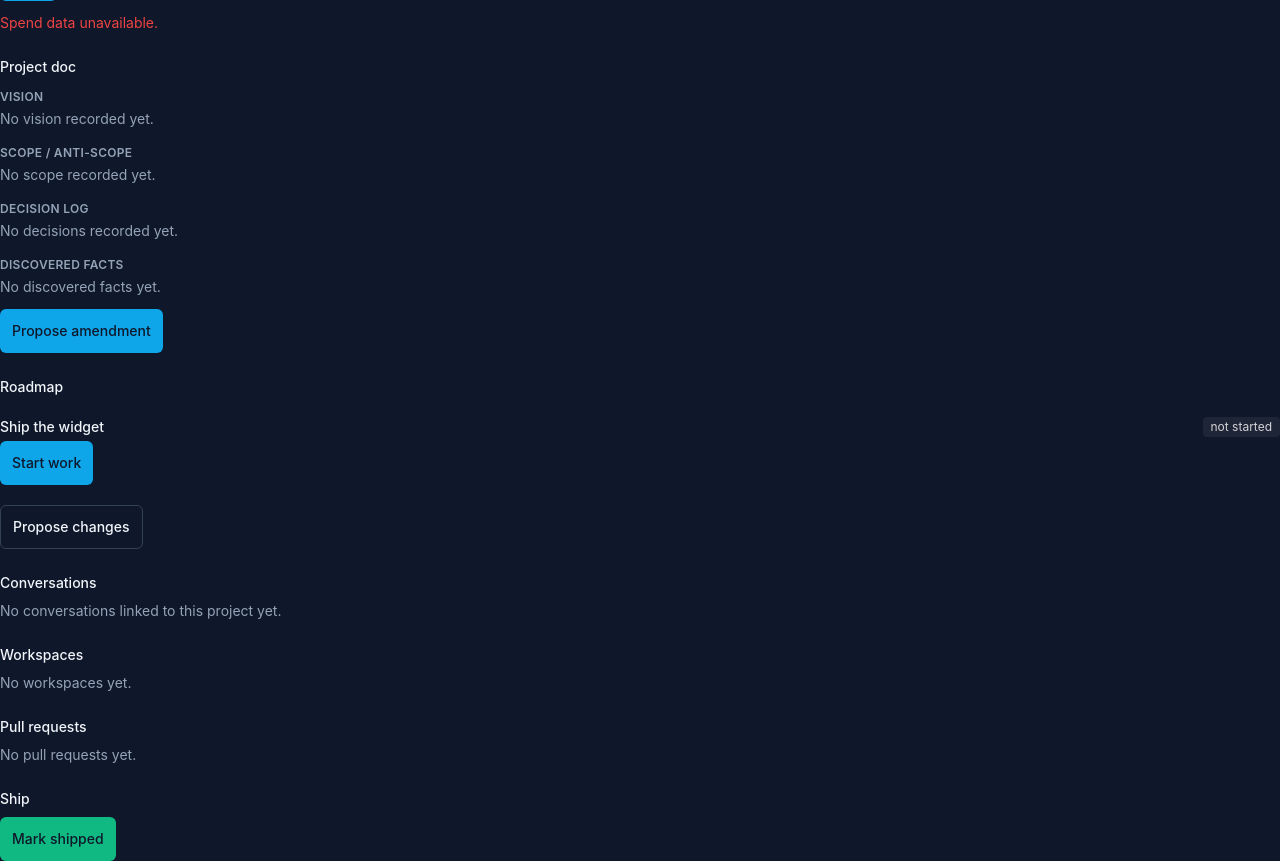
Test: Project › propose roadmap changes action › Cancel button closes the propose-changes modal without proposing
(page scrolled)
What coordinates should you click on to do the following:
click the button with test id "propose-roadmap-changes-open"
I would click on:
 (71, 527)
Its box is [0,505,142,549].
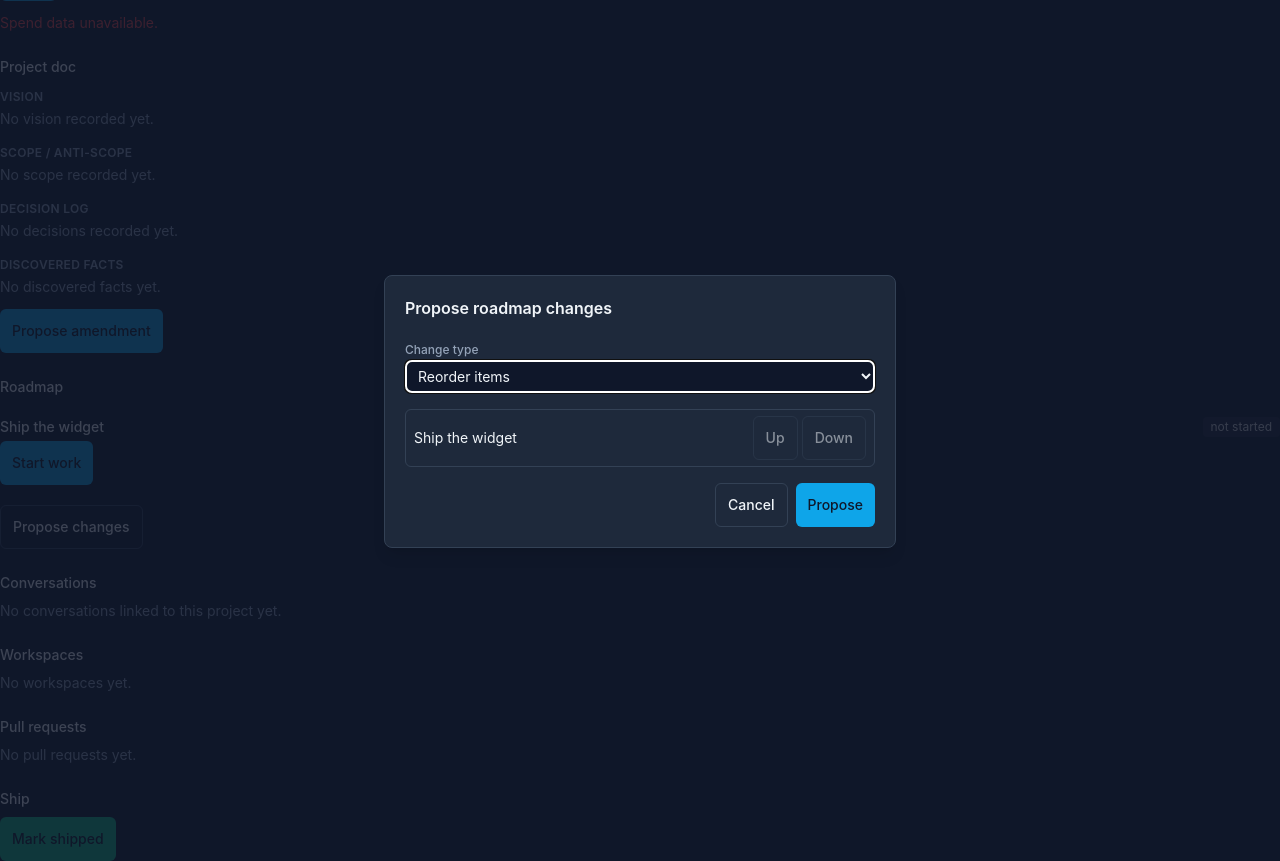
What coordinates should you click on to do the following:
click the button "Cancel"
I would click on:
 (751, 504)
Its box is [715,482,788,526].
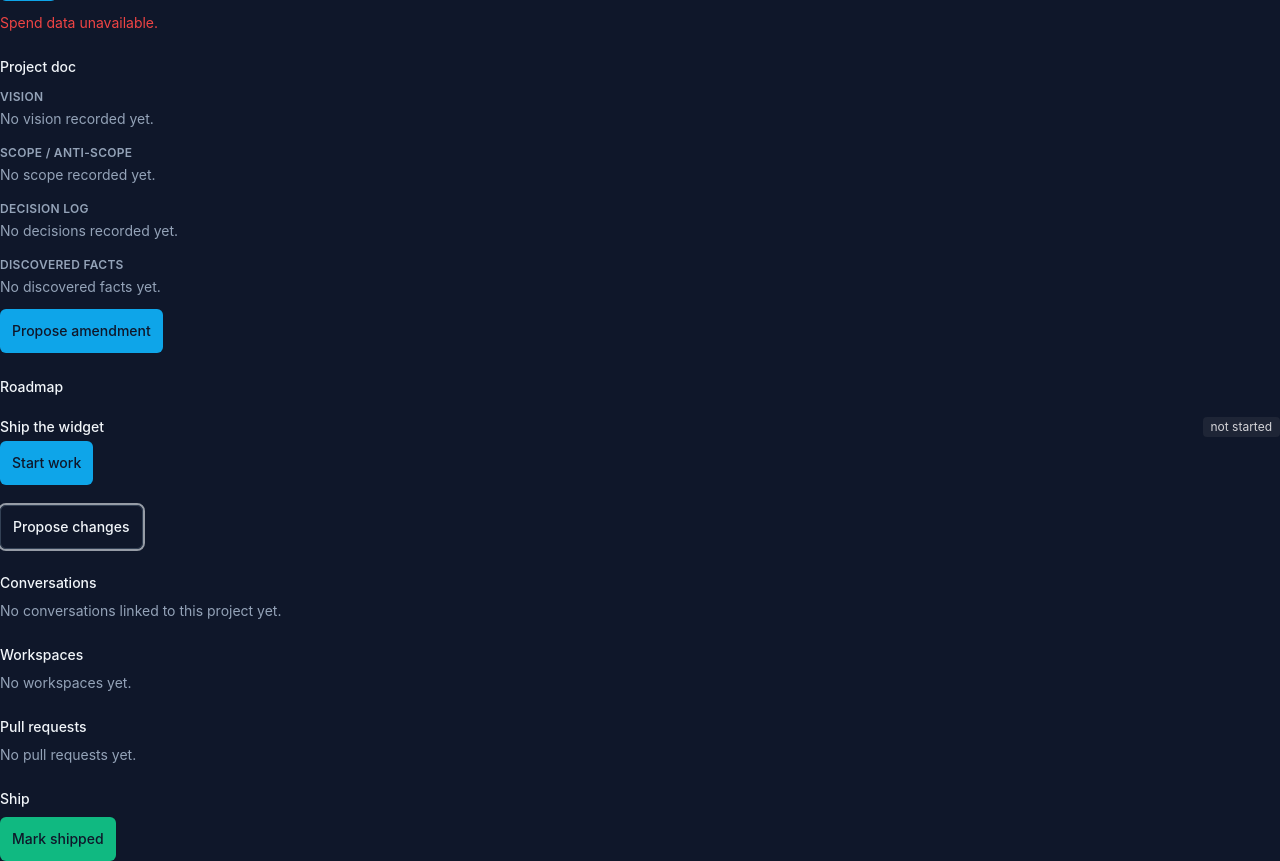
Check: the dialog with test id "propose-roadmap-changes-dialog" is gone
